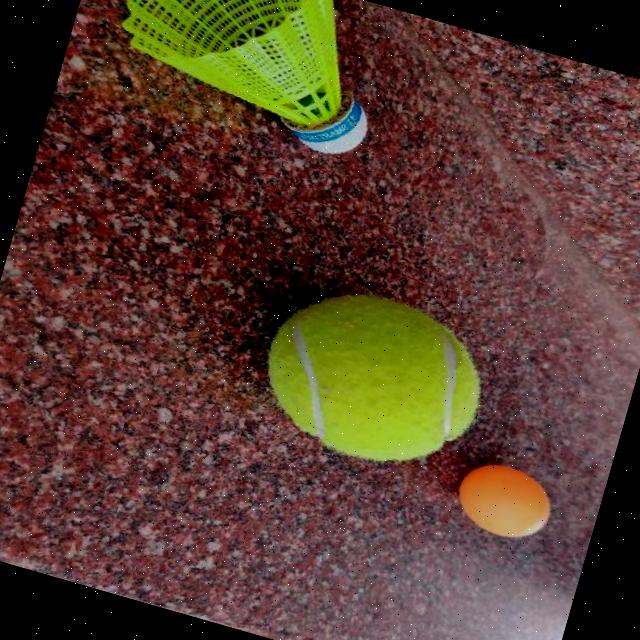ping-pong-ball: (447, 458, 558, 548)
